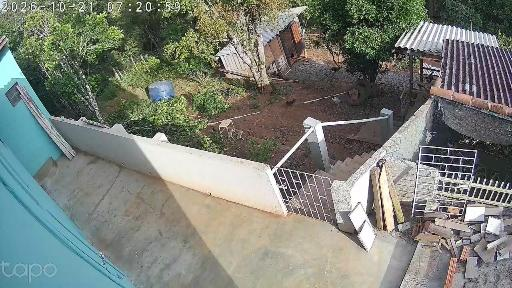galinha: (285, 99, 297, 110), (331, 94, 341, 106), (428, 71, 434, 82)
